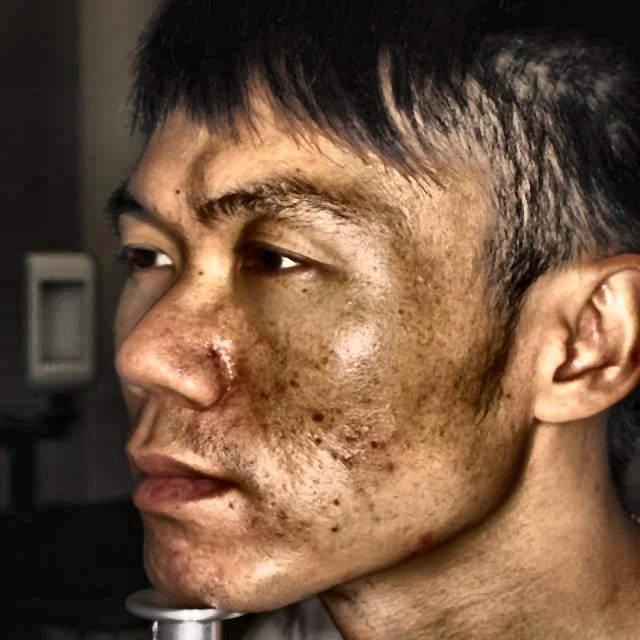comedone: (412, 529, 445, 551), (326, 442, 352, 467), (379, 459, 405, 476)
